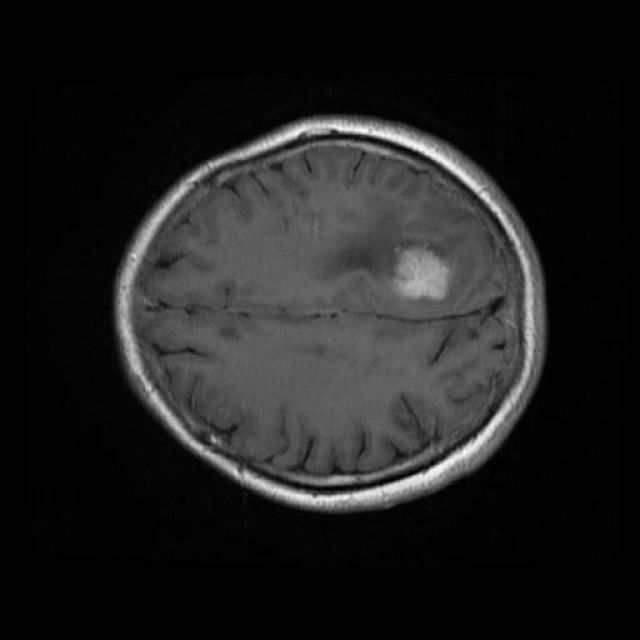Meningioma: (393, 247, 451, 299)
